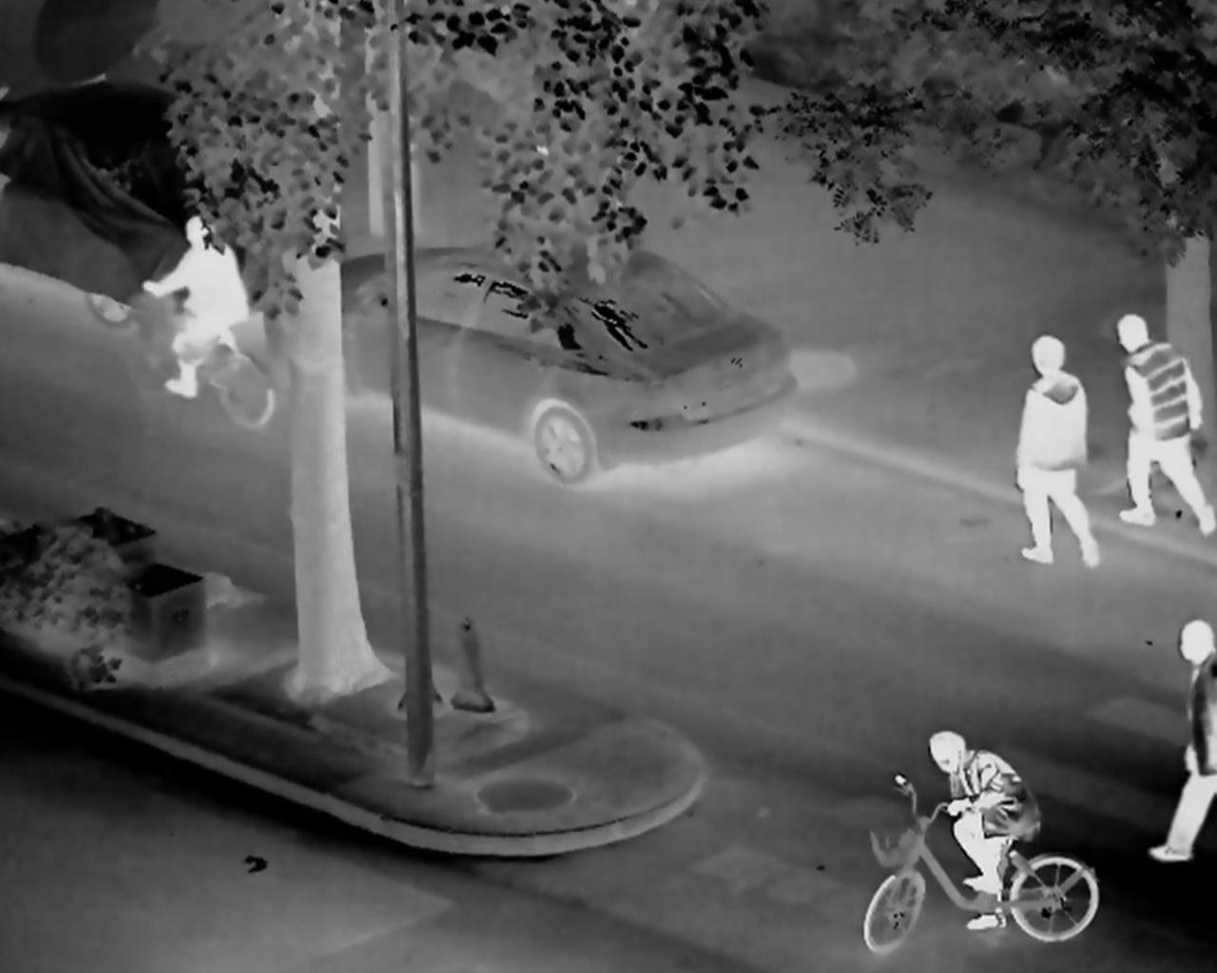person: (928, 730, 1040, 932), (1117, 314, 1213, 538), (142, 212, 251, 398), (1015, 335, 1101, 565), (1152, 620, 1217, 863)
